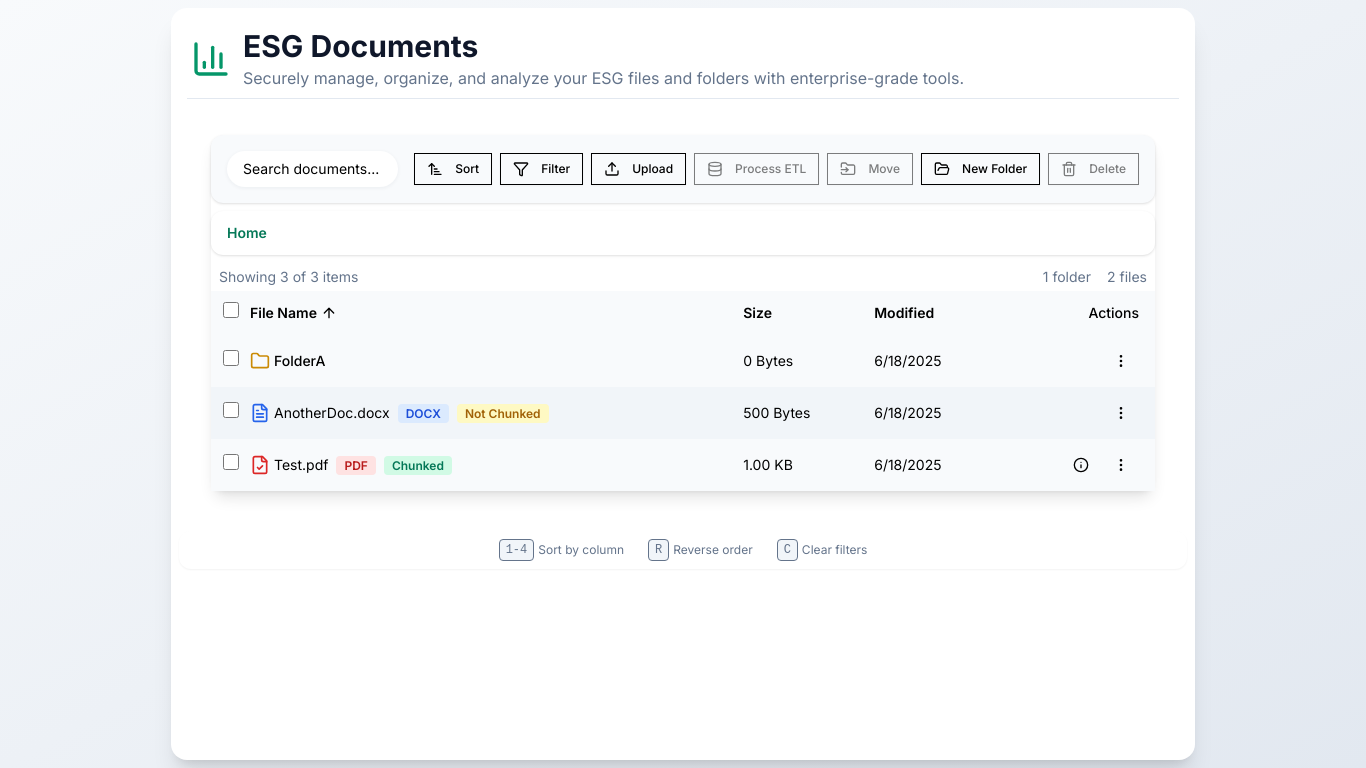
Test case: UI State and Loading Indicators › should open FileDetailsDialog with correct data when an item's details are viewed
This screenshot has width=1366, height=768.
Expected: the text "Test.pdf" is shown, [274,456,328,472]
Step 1. Click the button titled "View Details" → click(1081, 464), box [1063,446,1099,482]
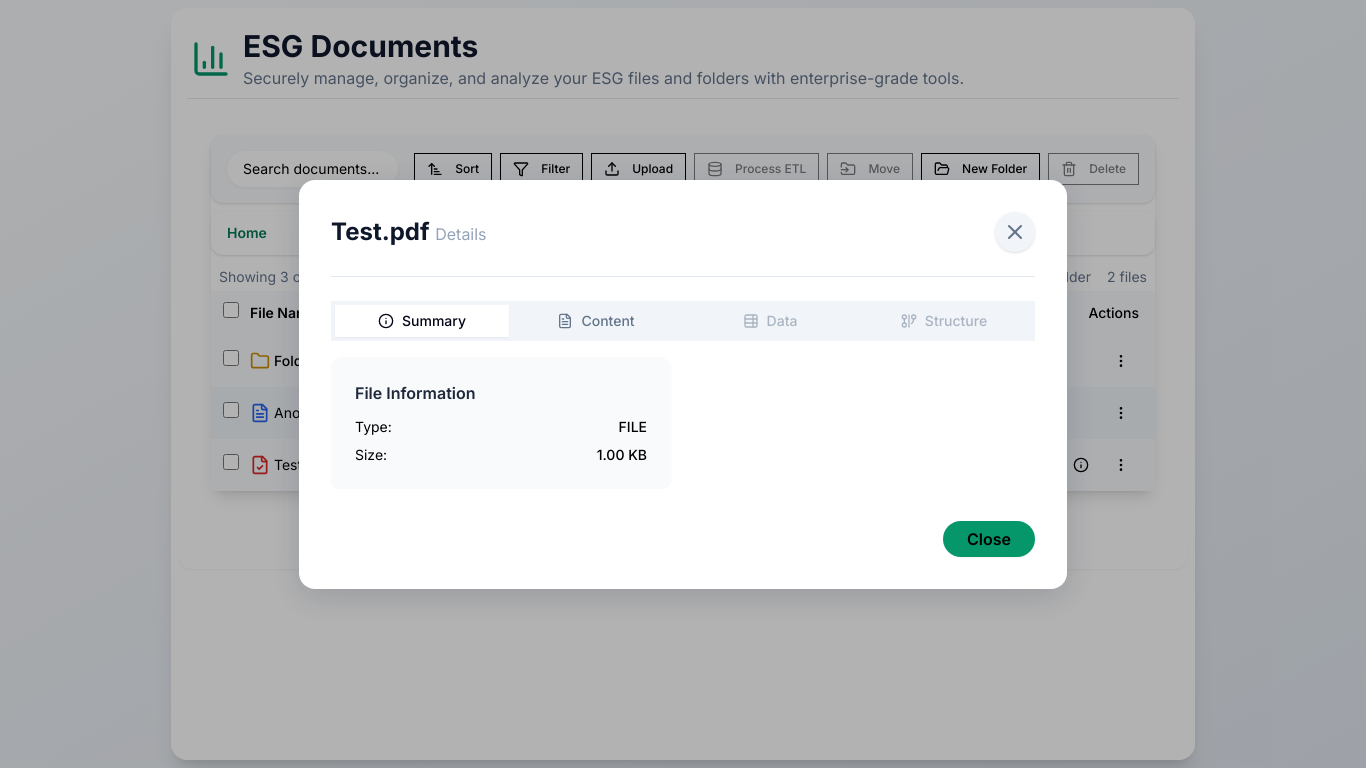
Now the heading "Test.pdf Details" is shown, box [331,216,487,248]
